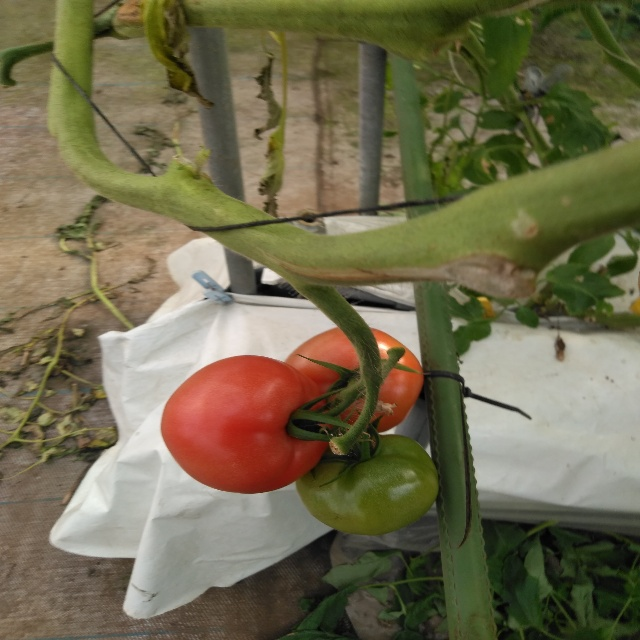b_fully_ripened: (160, 355, 336, 494), (285, 325, 424, 434)
b_green: (296, 434, 440, 535)
